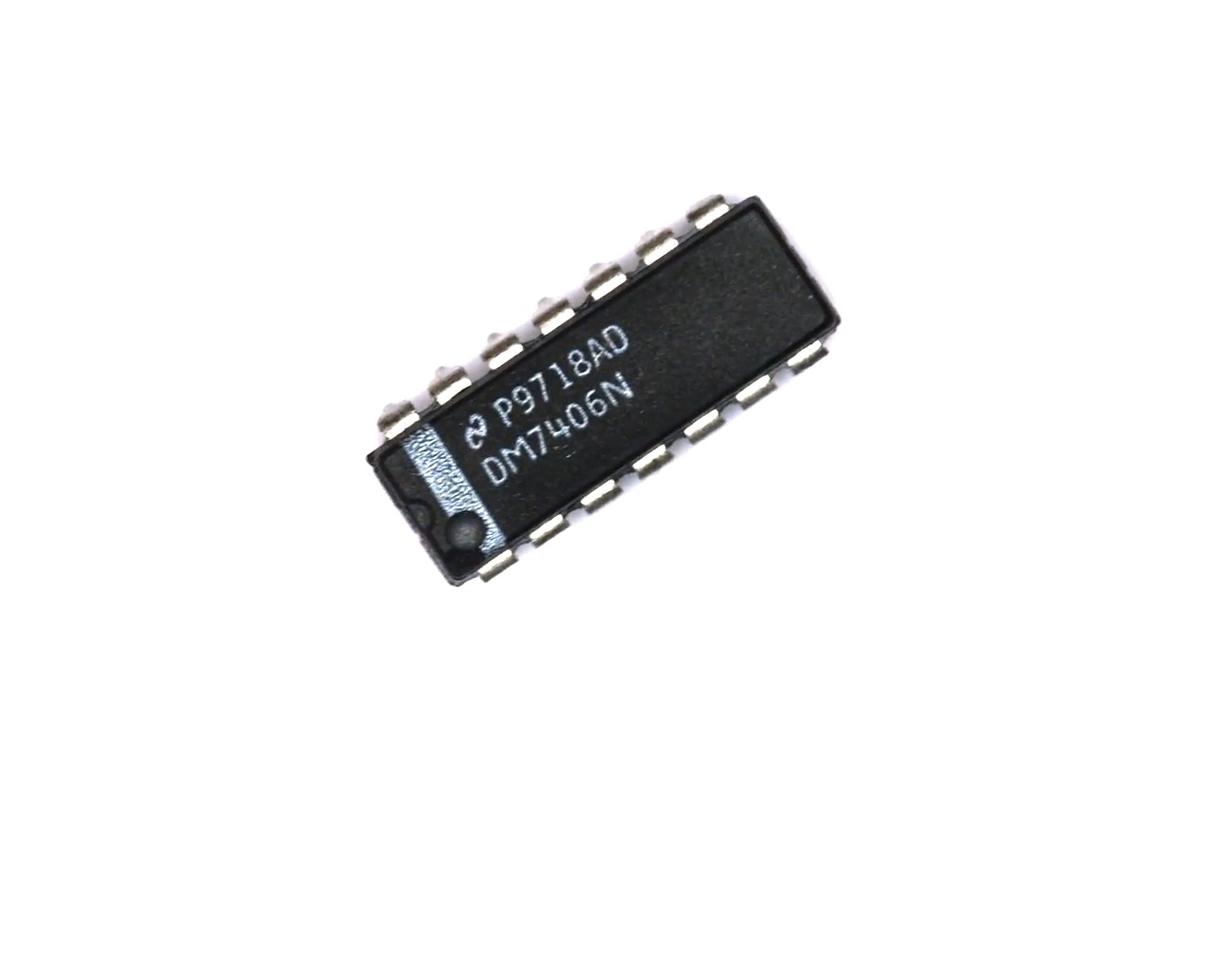IC: (333, 163, 877, 628)
notch: (395, 491, 441, 543)
